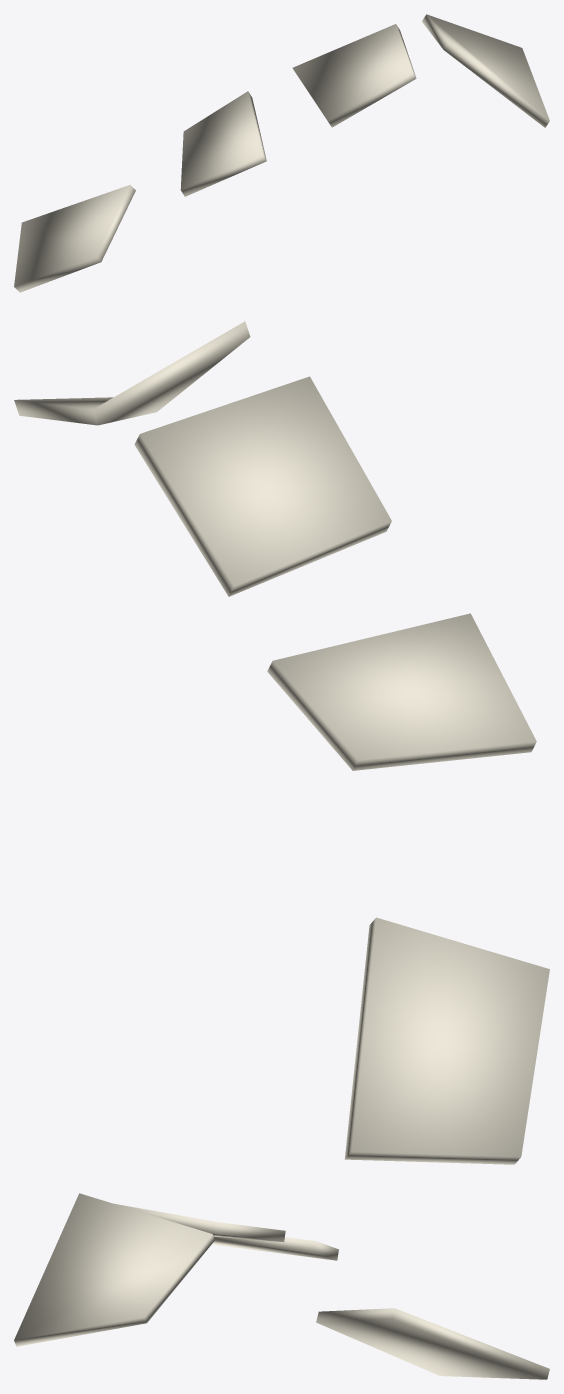
3 renders of one model, top to bottom at view 1: azimuth 30°, elevation 25°; view 2: azimuth 150°, elevation 25°; view 3: azimuth 270°, elevation 25°, orthographic. The views are drawn at different scales.
Visible parts, largest first — view 1: ZA_ceb020927daeb5bd; view 2: ZA_ceb020927daeb5bd; view 3: ZA_ceb020927daeb5bd.
Boxes of the visible parts, x1=… form: ZA_ceb020927daeb5bd: x1=14, y1=14, x2=549, y2=292; ZA_ceb020927daeb5bd: x1=14, y1=321, x2=549, y2=1164; ZA_ceb020927daeb5bd: x1=14, y1=1193, x2=549, y2=1379.
Bounding box in the file's own units: 0.0251 × 0.0173 × 0.0233.
